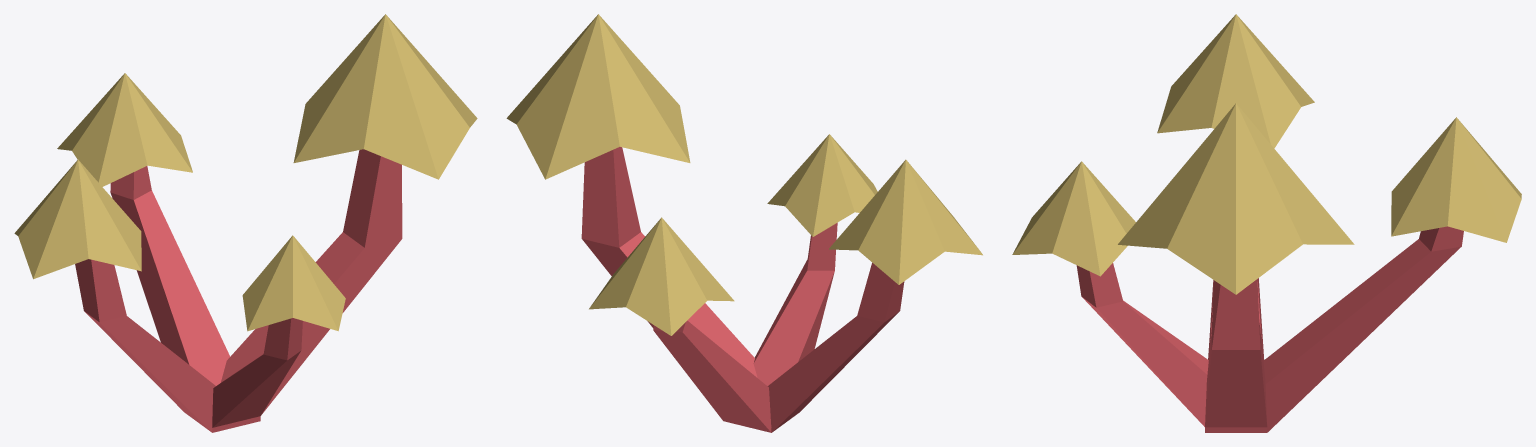
File: shroom3.fbx
The picture shows the model from 3 angles, left to right: view 1: azimuth 30°, elevation 25°; view 2: azimuth 150°, elevation 25°; view 3: azimuth 270°, elevation 25°; orthographic projection. The views are drawn at different scales.
Parts seen in each view (by area): view 1: Cylinder.002; view 2: Cylinder.002; view 3: Cylinder.002.
Boxes of the visible parts, x1,y1,x2,y2 form: Cylinder.002: [14, 14, 477, 432]; Cylinder.002: [506, 14, 982, 432]; Cylinder.002: [1012, 14, 1521, 432].
Bounding box in the file's own units: 953 × 718 × 818.
